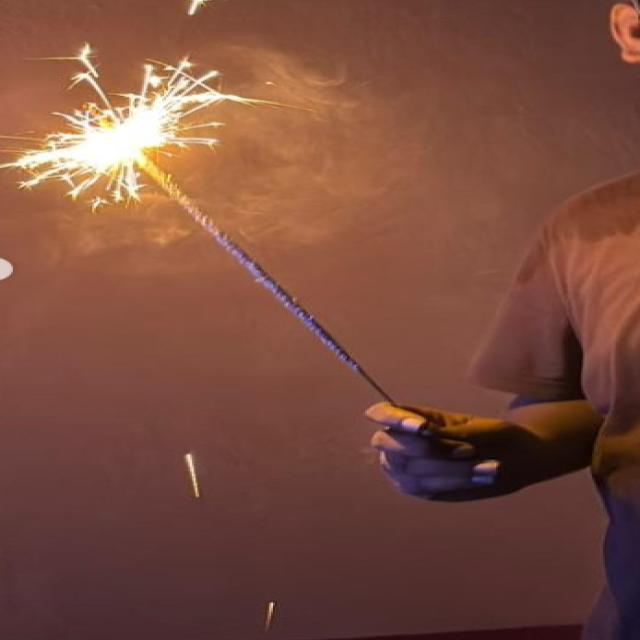fire: (0, 42, 312, 213)
